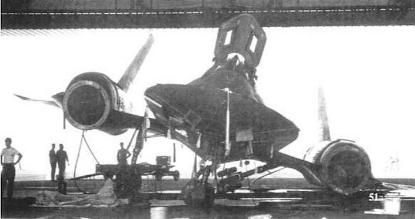Rafale: (11, 13, 398, 206)
